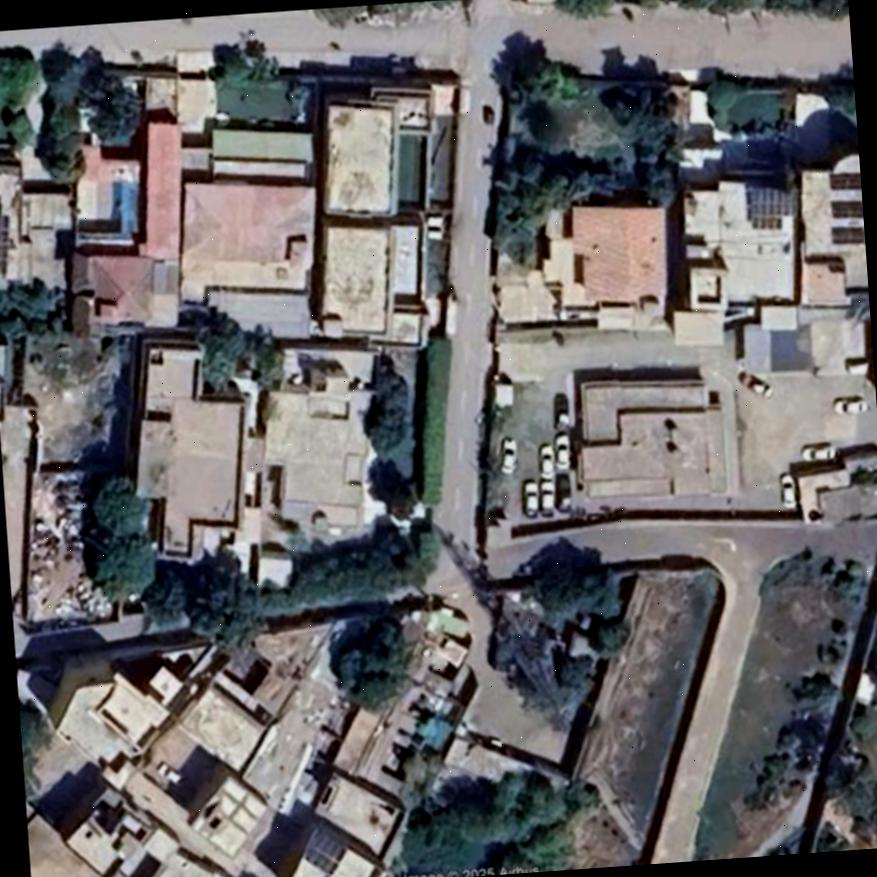Solarpanel: (302, 832, 345, 872), (749, 184, 794, 212), (0, 212, 9, 276), (828, 172, 859, 187), (830, 225, 861, 240), (828, 202, 861, 215)
